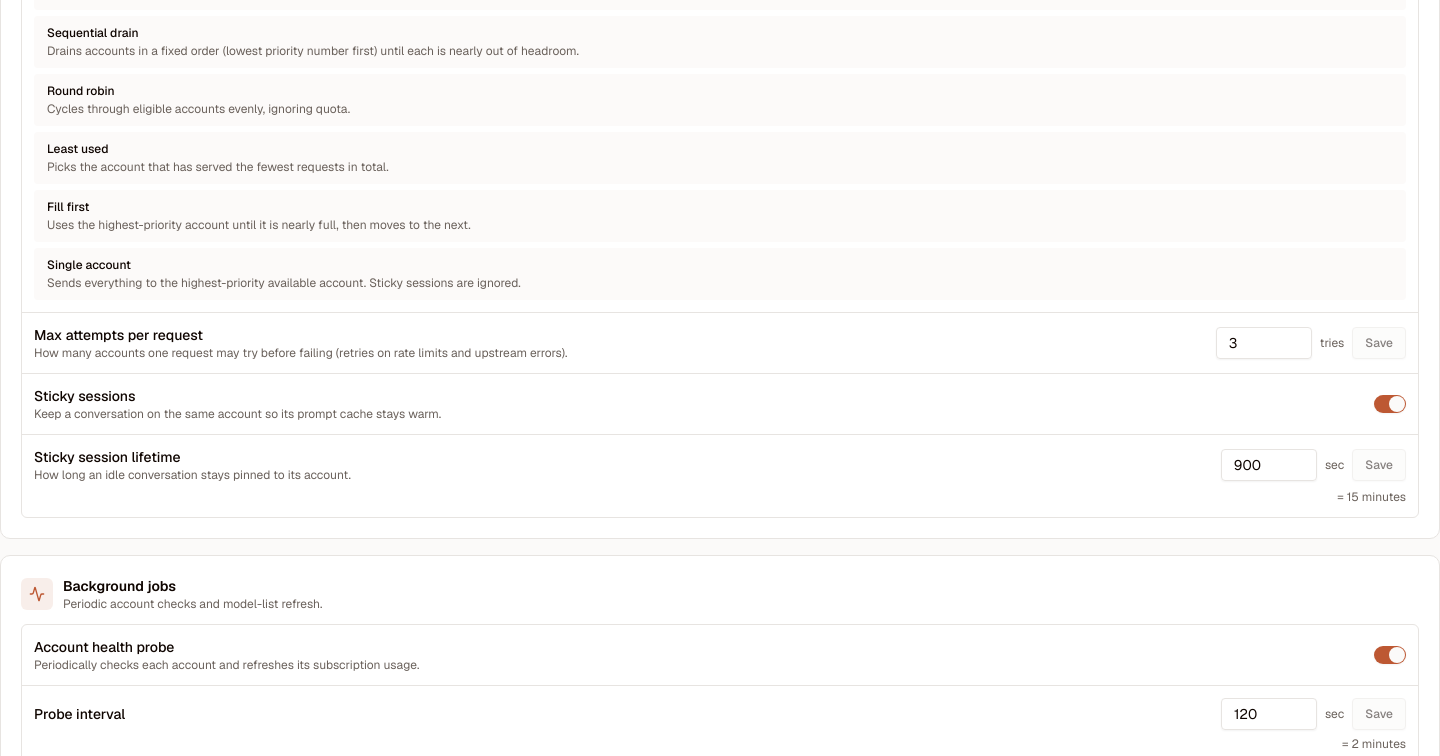
Test case: SettingsPage › toggles sticky sessions and saves numeric settings within bounds
The image size is (1440, 756).
Later steps or results of the test are not shown.
(page scrolled)
Click the switch named "Sticky sessions" at point(1390, 404), box [1374,395,1406,413]
(page scrolled)
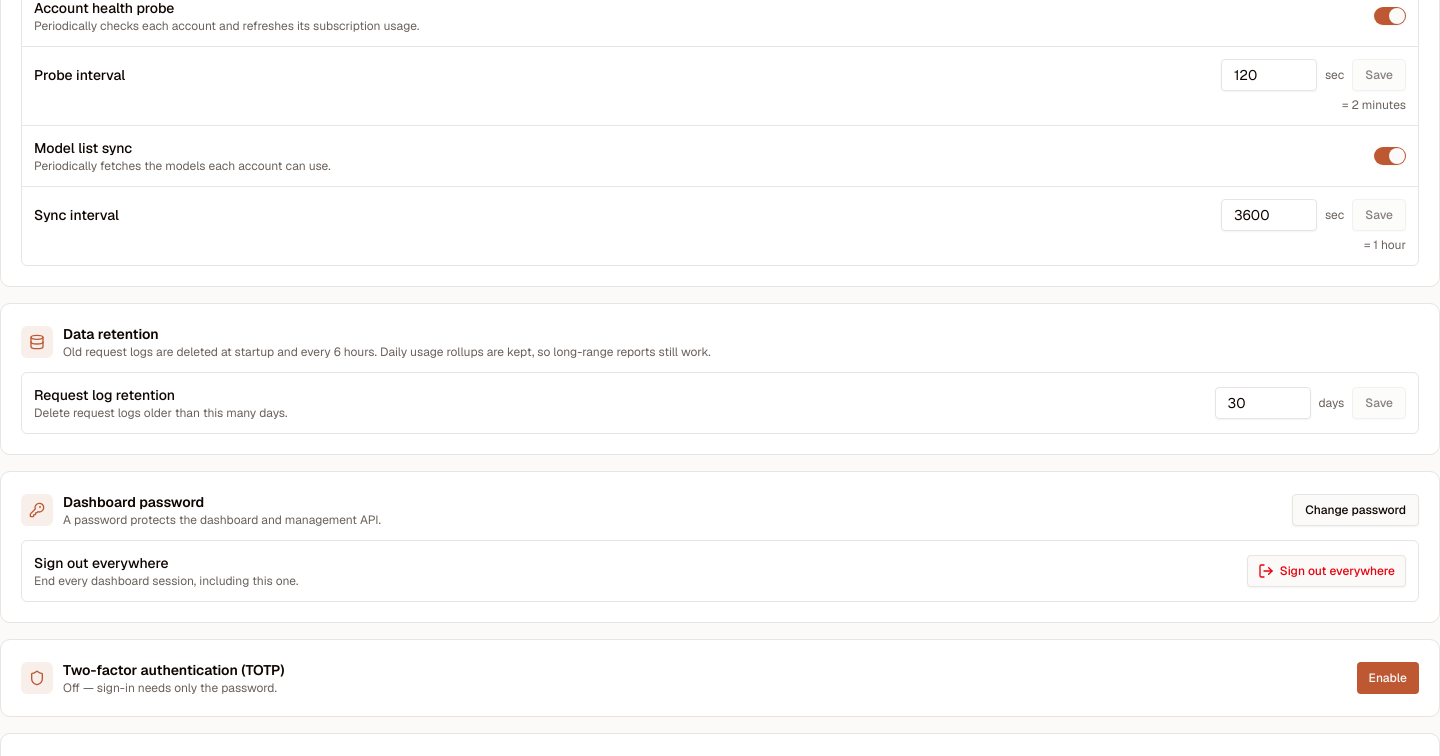
Replace the text in the number field named "Request log retention" with "0" at point(1263, 403), box [1215,387,1311,419]
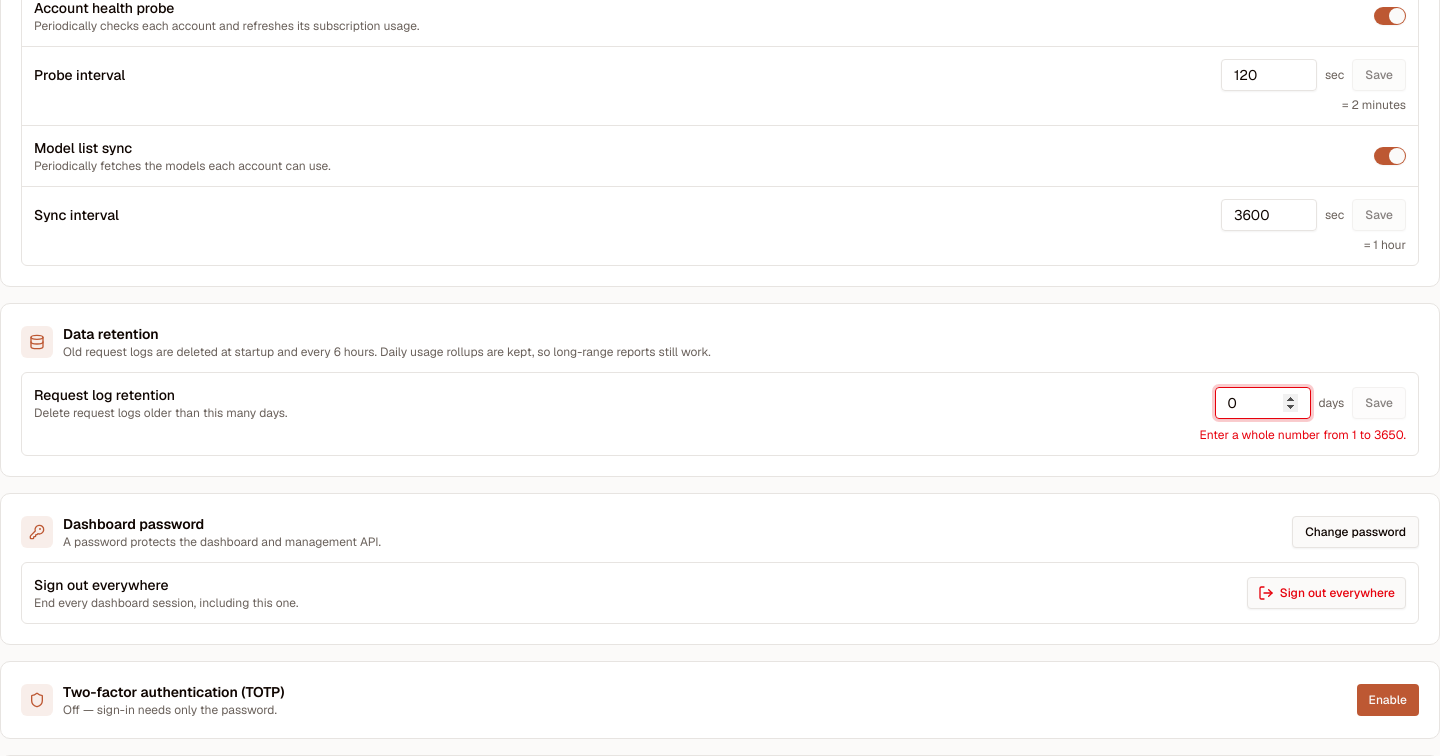
Expected: the text "Enter a whole number from 1 to 3650." is shown, [1200,427,1406,443]
